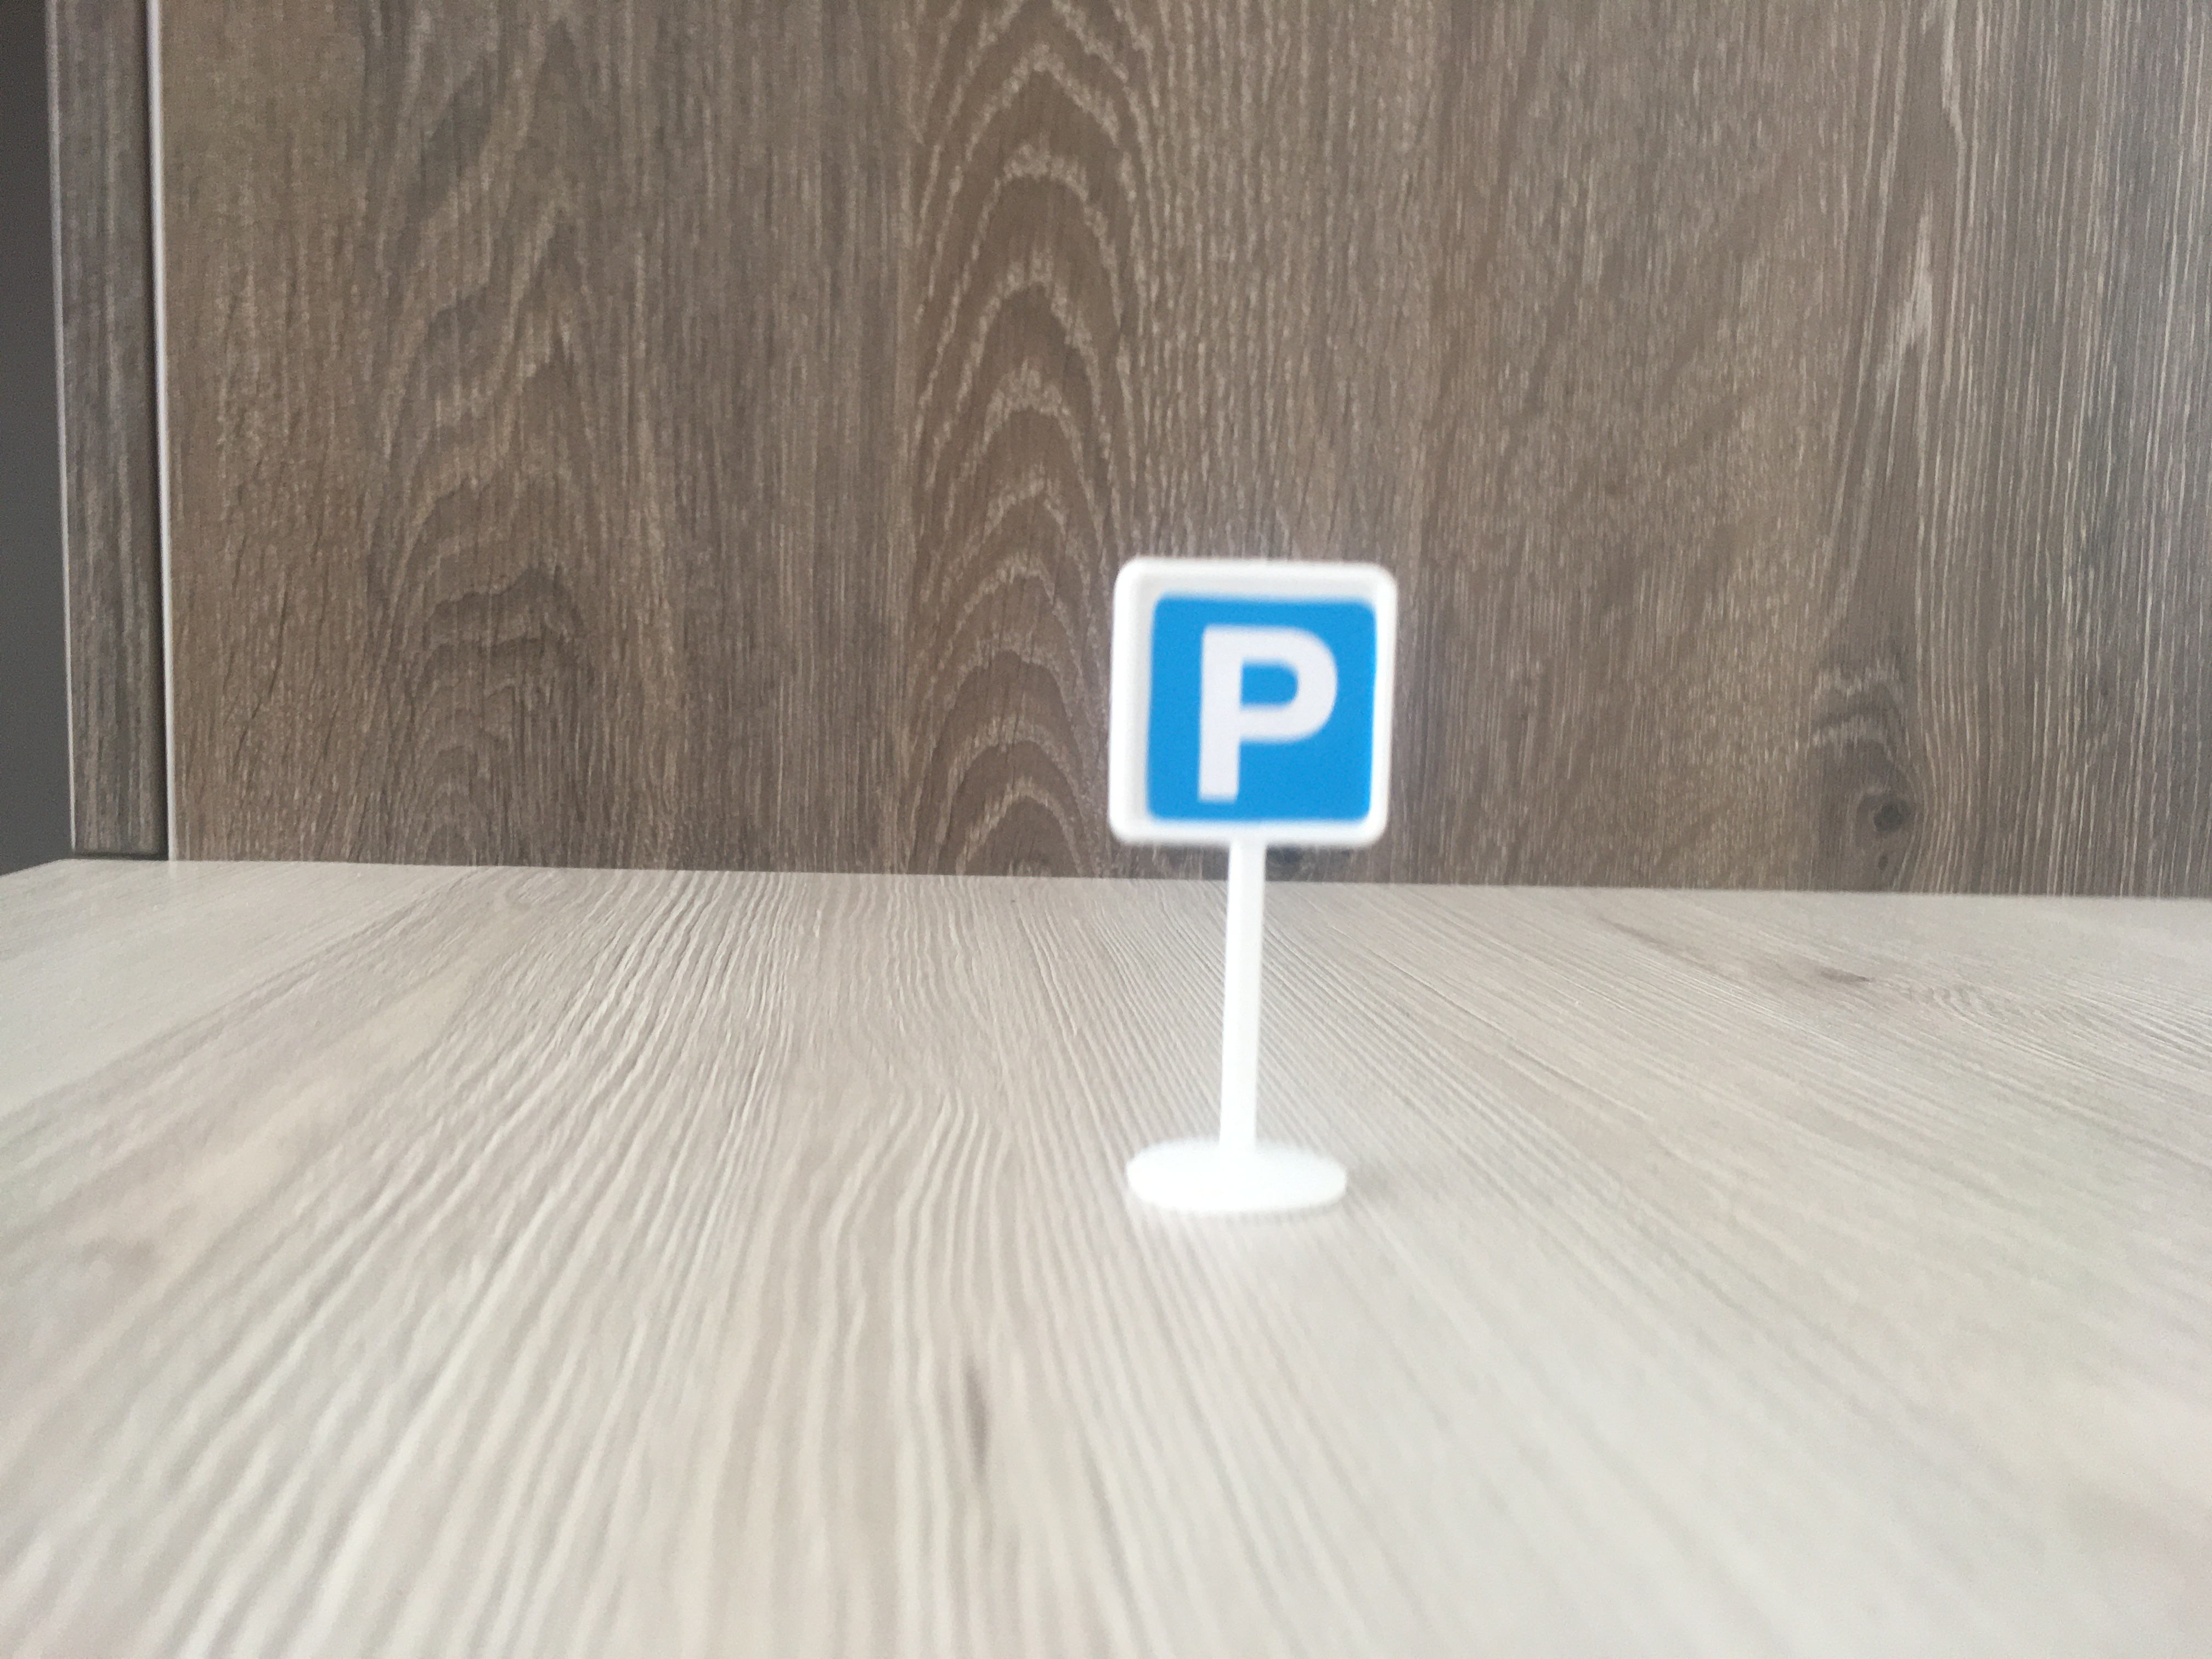parking: (1111, 554, 1386, 847)
